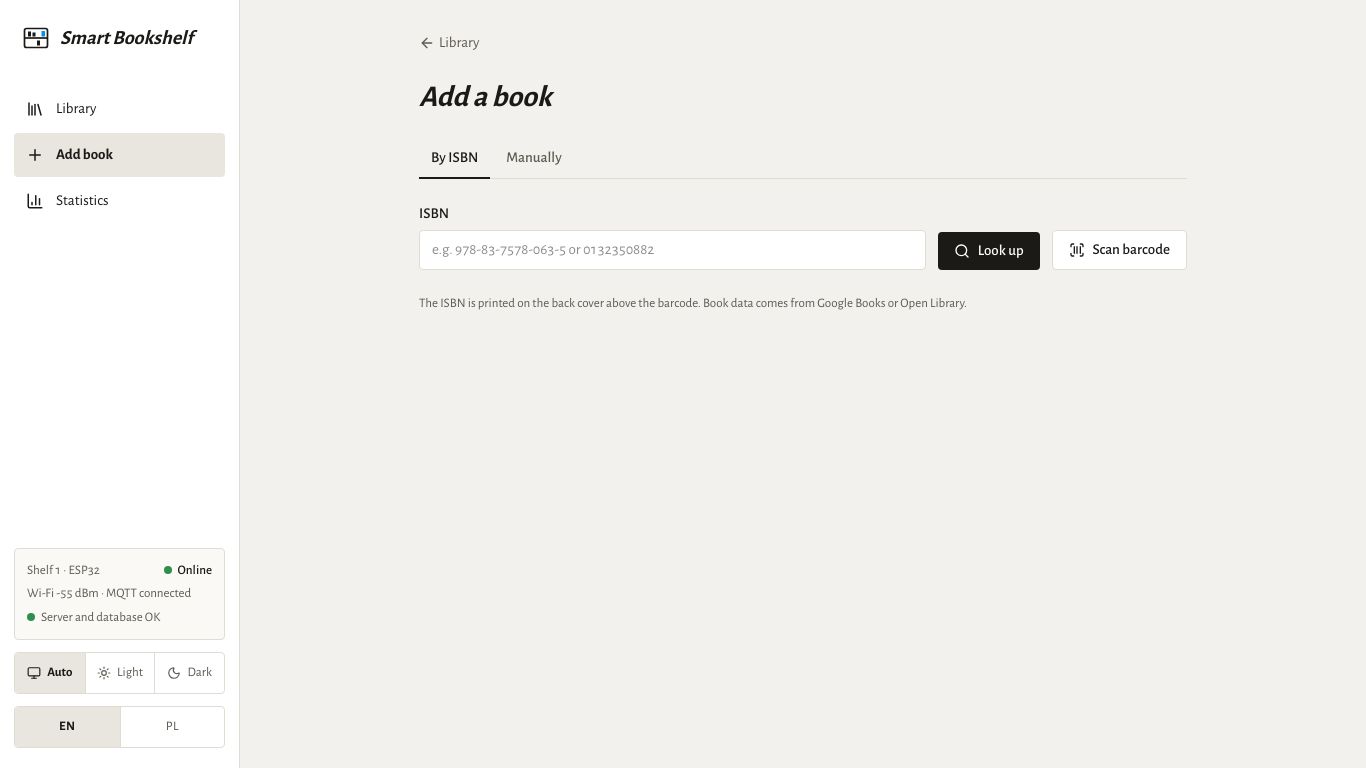
Test: barcode scanning on the add-book page › explains a camera failure and still offers the photo fallback
This screenshot has width=1366, height=768.
Click the button "Scan barcode": (1119, 250) [1052, 230, 1187, 270]
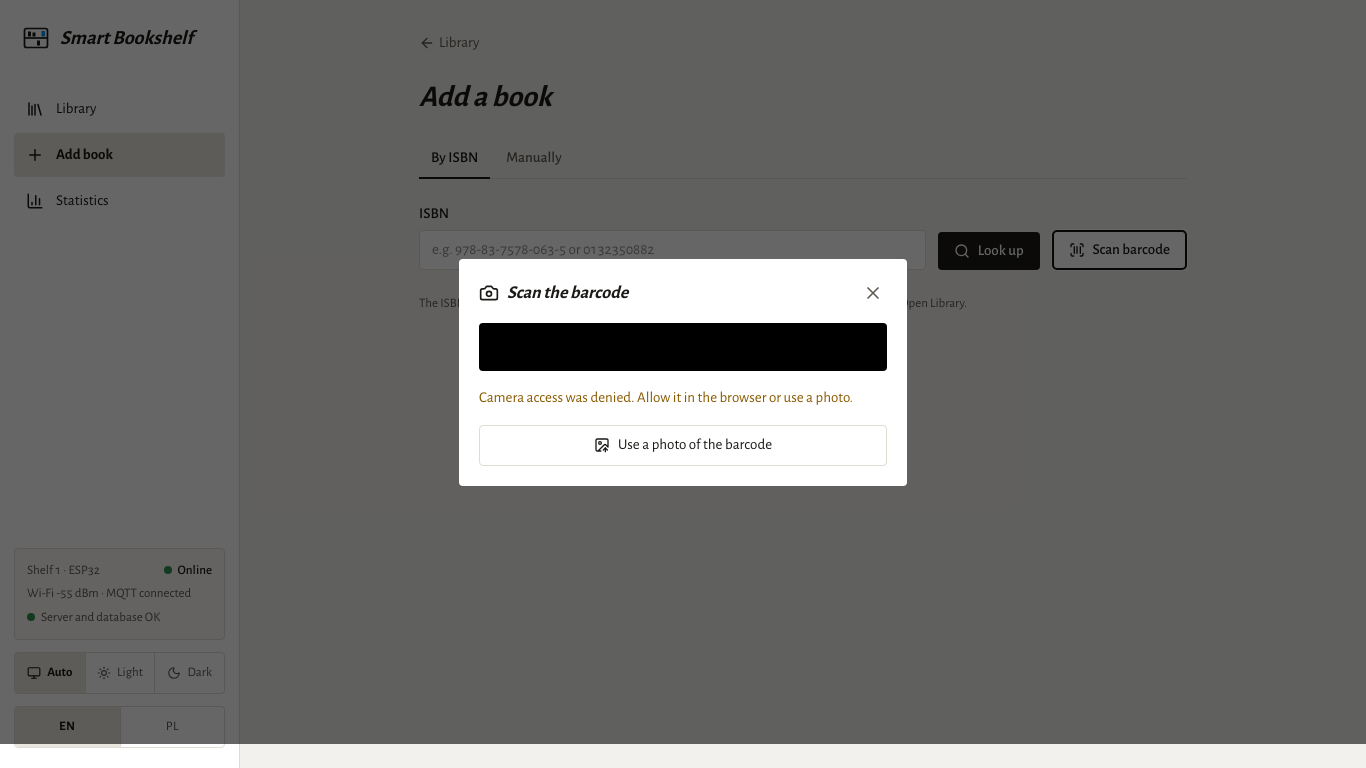
Result: the text "Camera access was denied" is shown at [479, 390, 853, 404]
Result: the file field "Use a photo of the barcode" is shown at [479, 425, 887, 466]
Press Escape
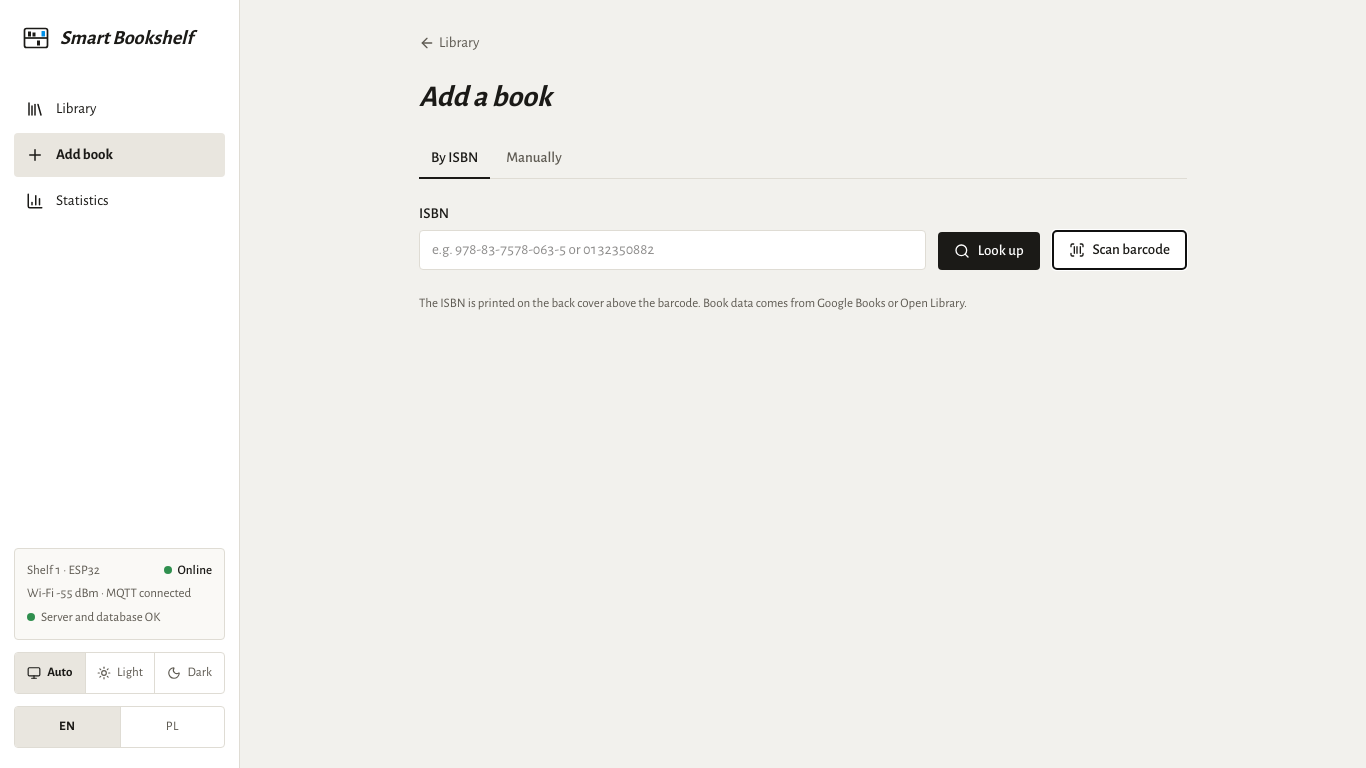
Result: the dialog is gone
